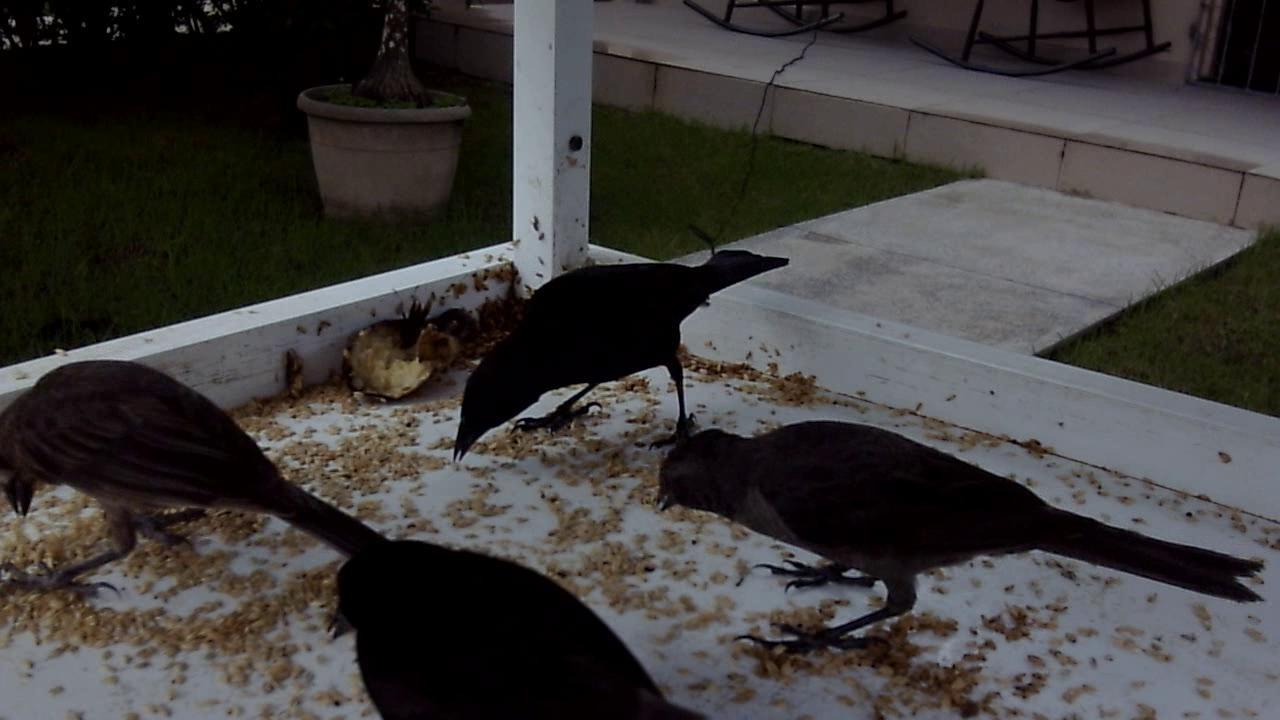chupim: (635, 393, 1268, 675), (1, 346, 405, 620), (294, 491, 744, 716), (450, 233, 800, 464)
